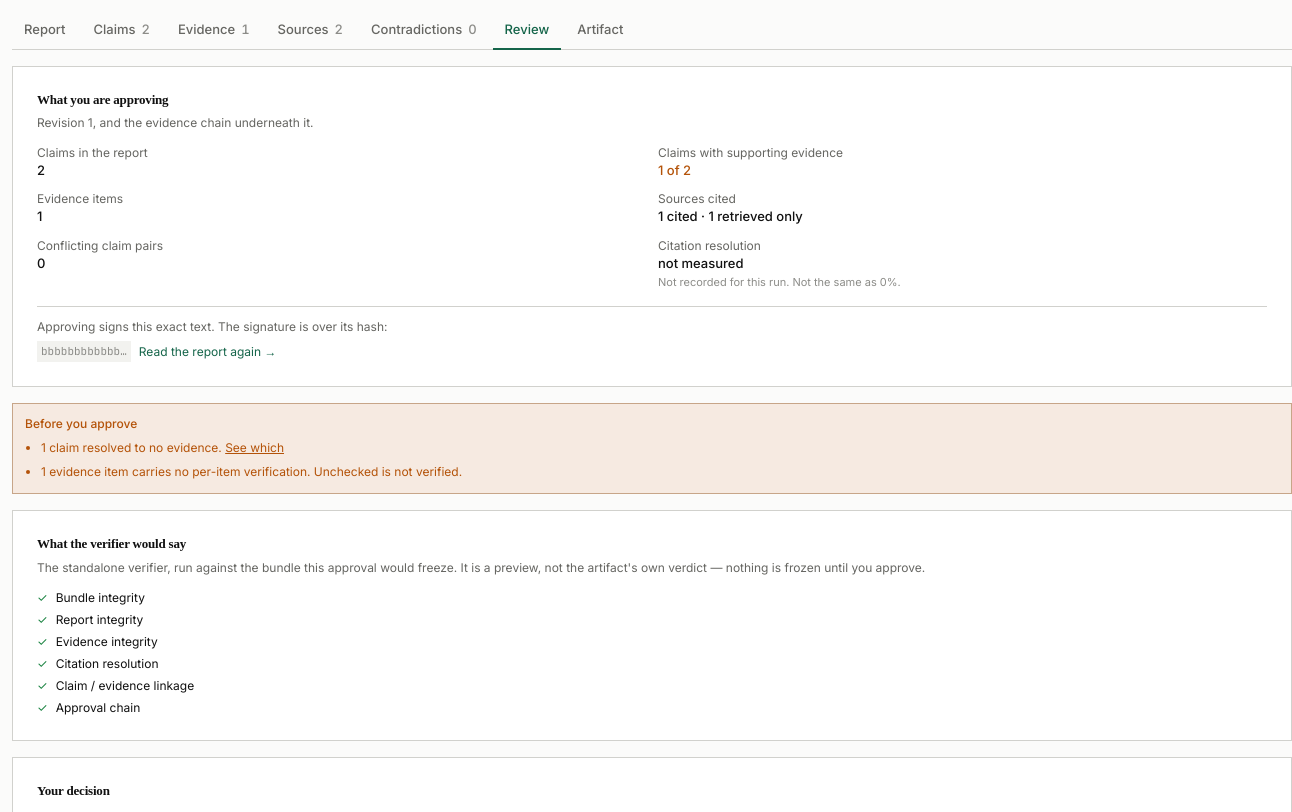
Test: the evidence chain › says a filtered evidence ledger is filtered, and offers the way back
Click the tab "Claims2" at (122,31), box [82, 12, 162, 50]
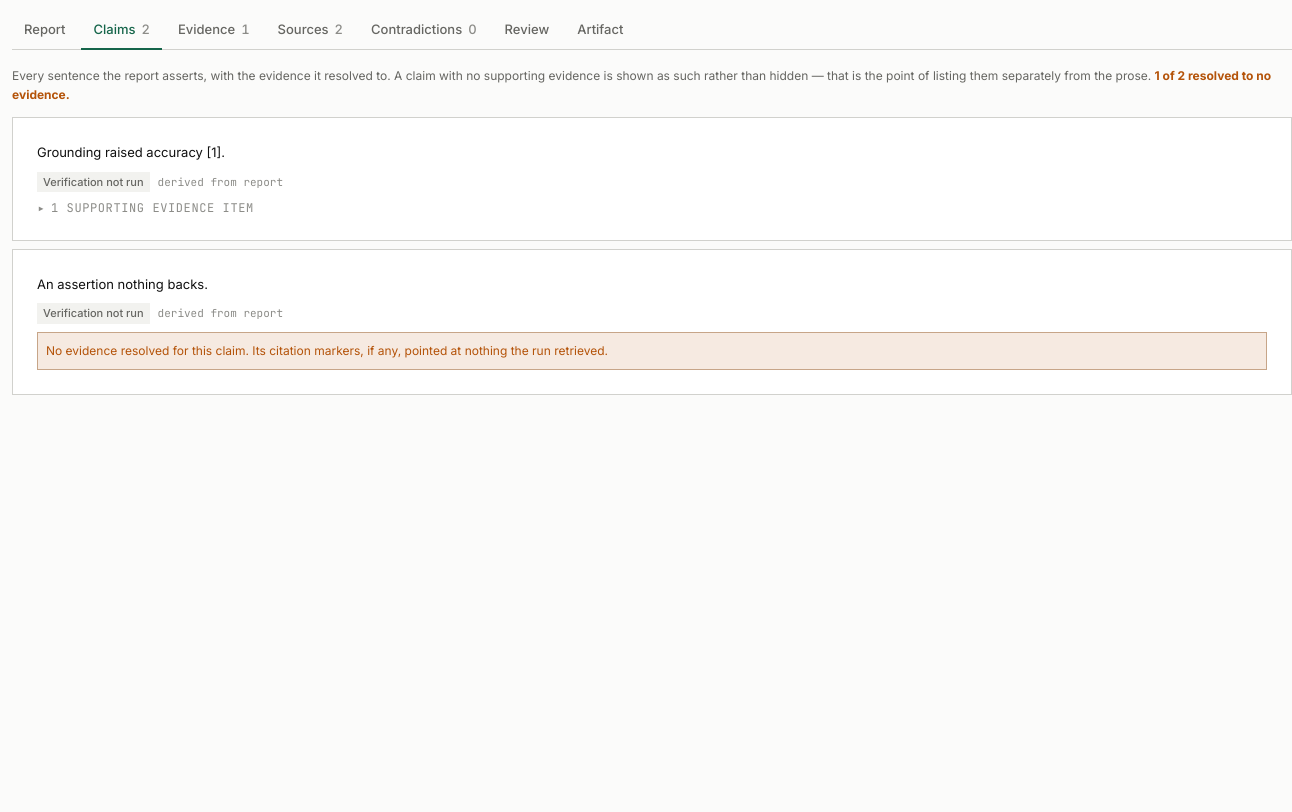
Click the text "1 supporting evidence item" at (152,208), box [51, 200, 254, 216]
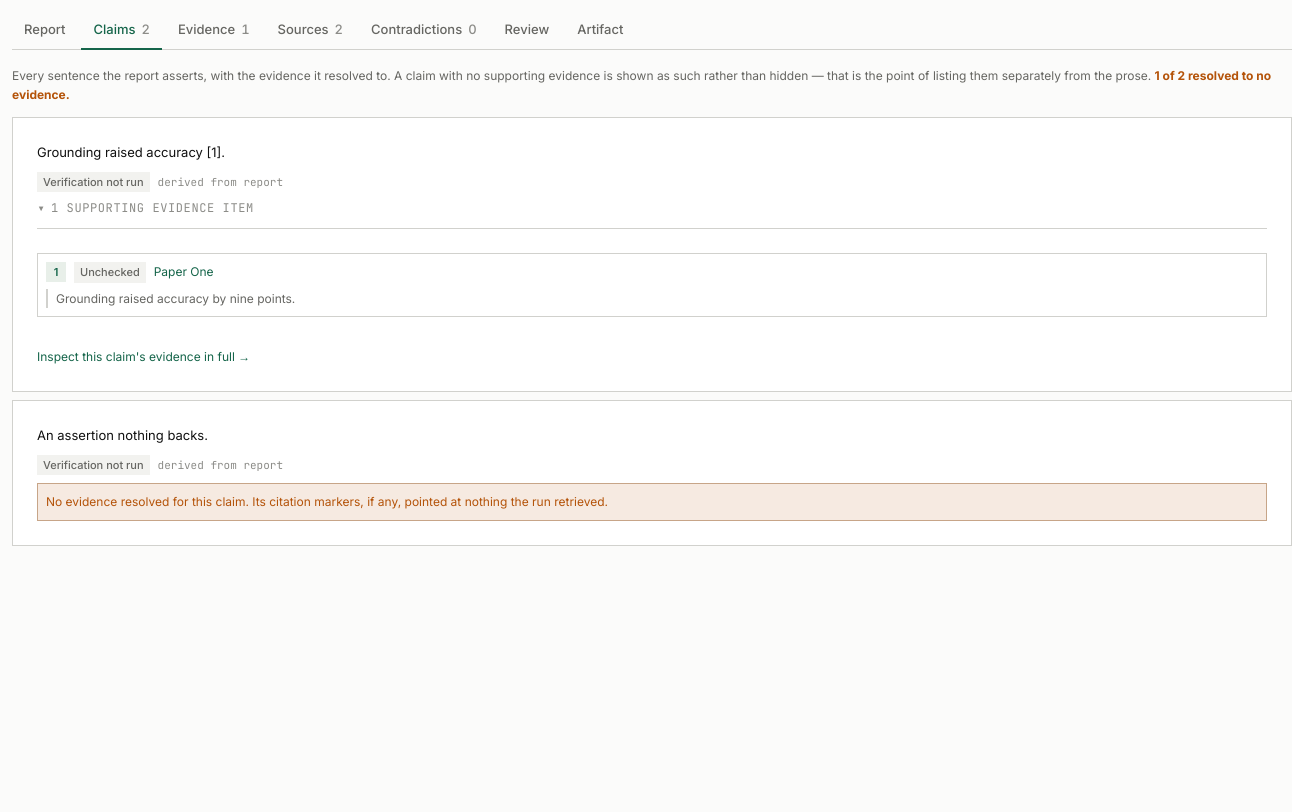
Click the button "Inspect this claim's evidence in full →" at (144,357), box [37, 349, 250, 365]
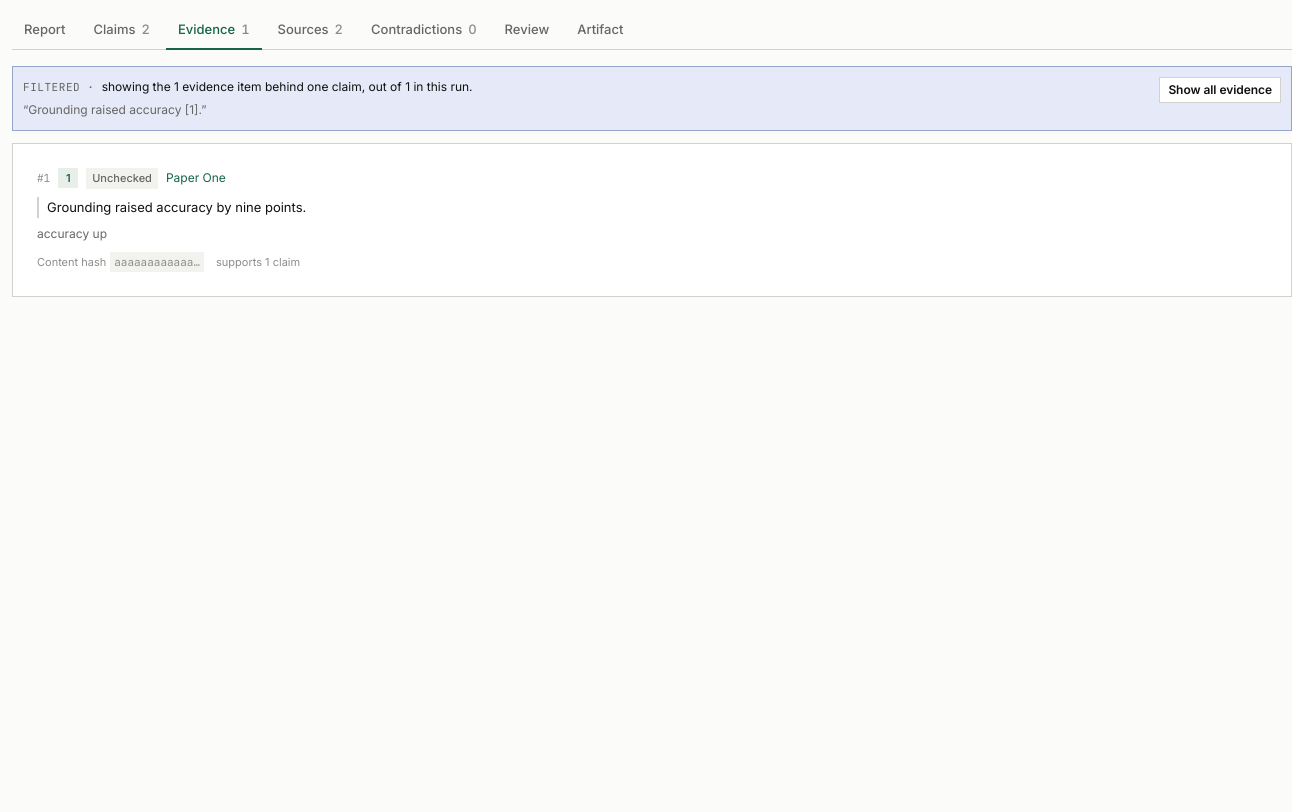
Result: the text "showing the 1 evidence item behind one claim, out of 1" is shown at [23, 76, 473, 120]
Click the button "Show all evidence" at (1220,90), box [1159, 76, 1281, 102]
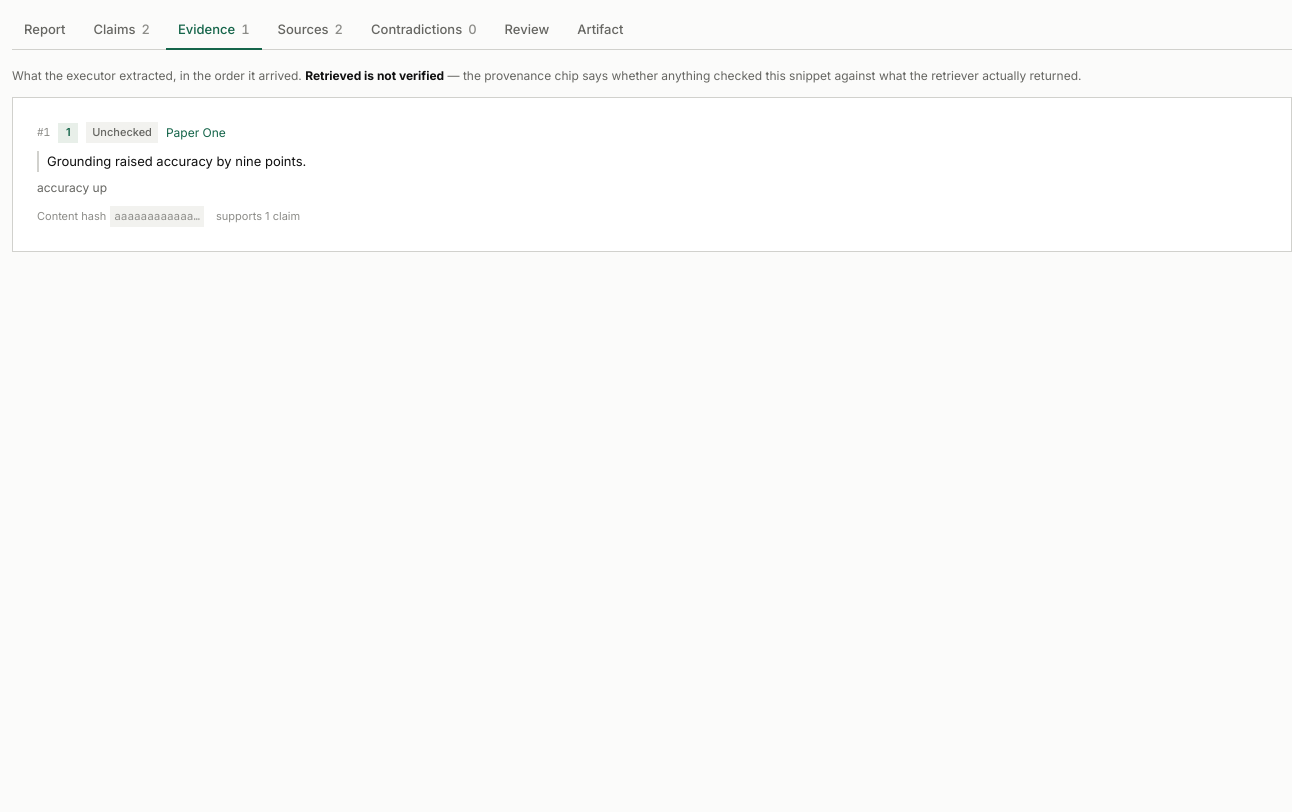
Result: the text "showing the 1 evidence item" is gone
